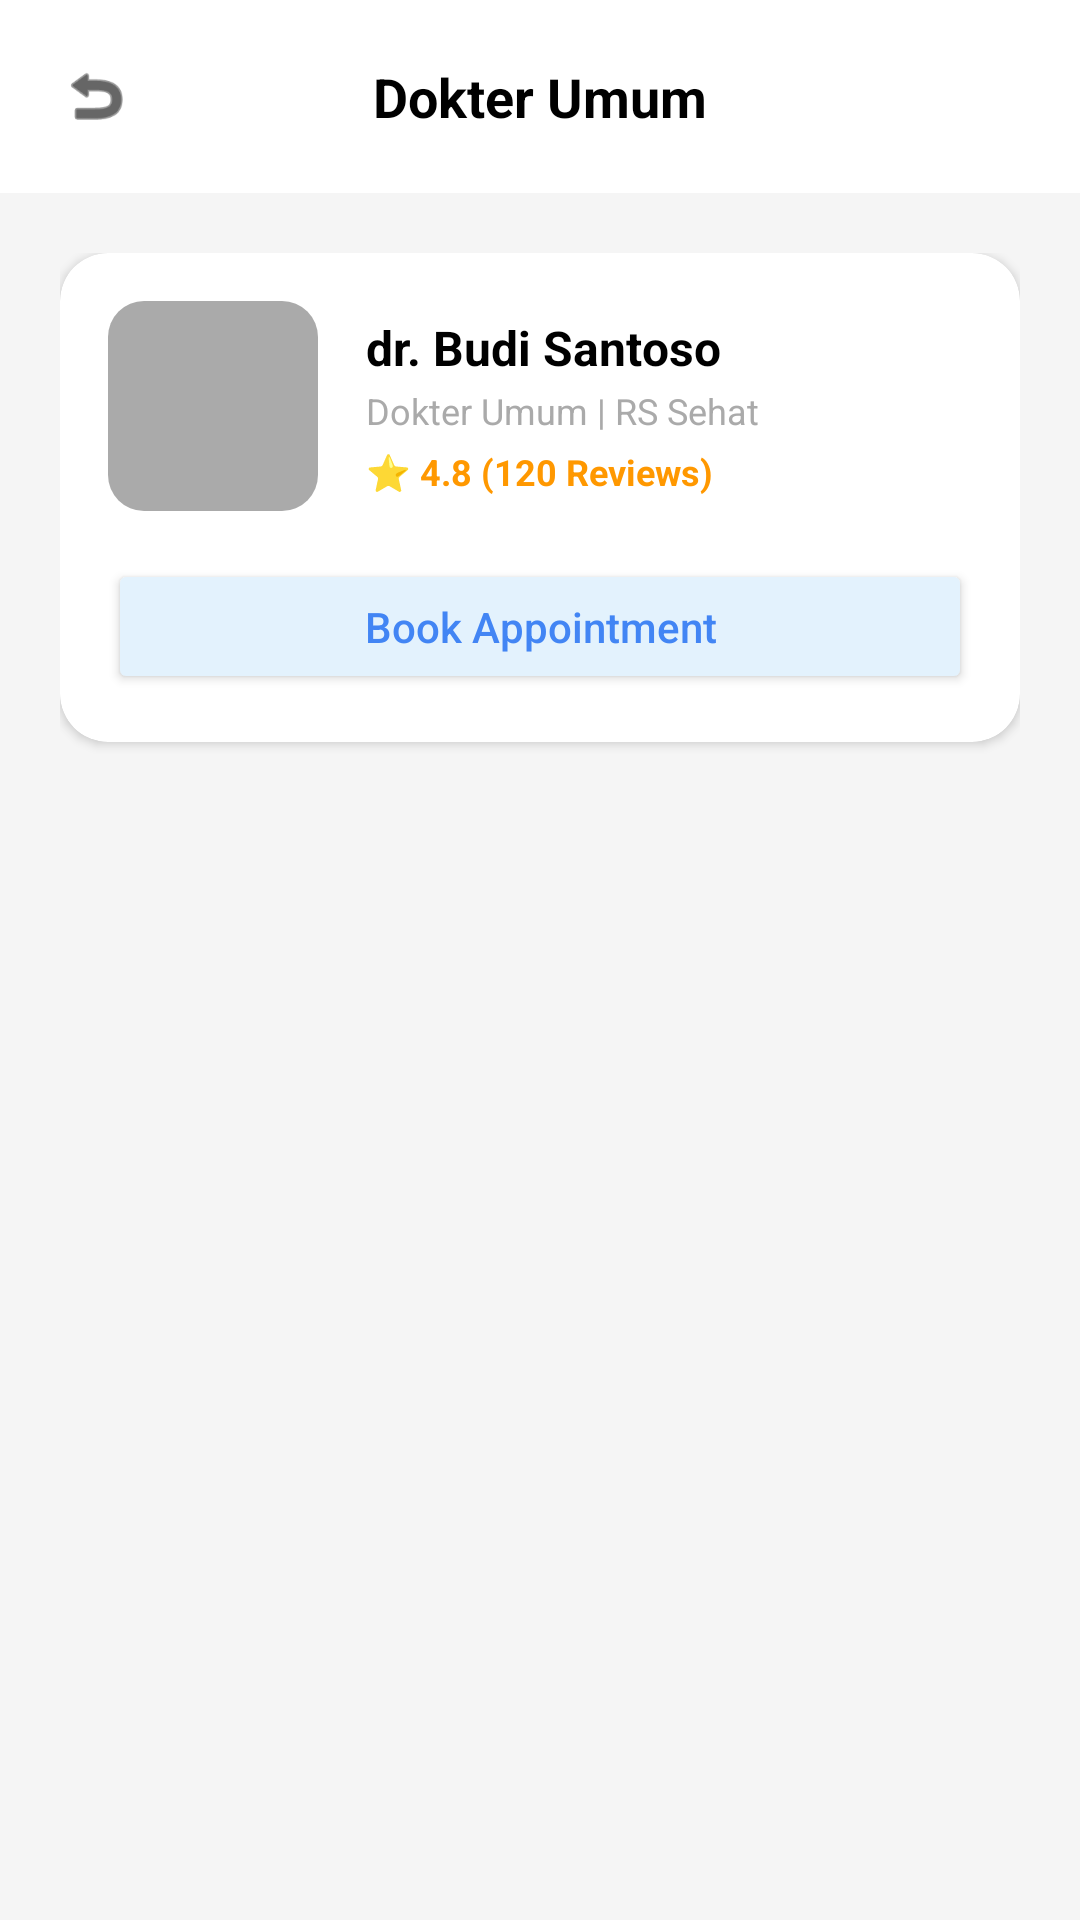

Locate icon controls on the screen. Image size 1080px×1920px, boxes as (x1, y1, x2, y2).
revert: (71, 73, 123, 120)
